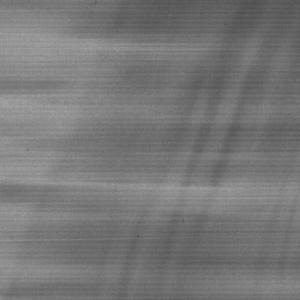Wrinkle: (93, 1, 300, 300)
